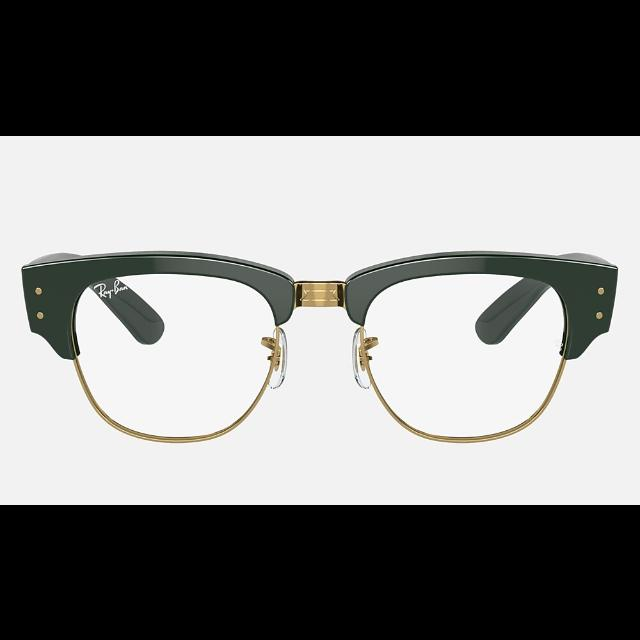glasses: (22, 248, 618, 444)
